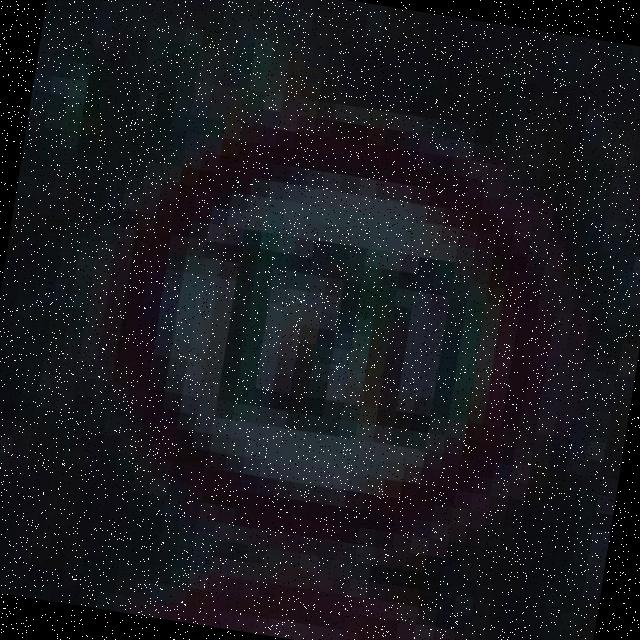Ograniczenie predkosci do 120: (97, 104, 574, 576)
